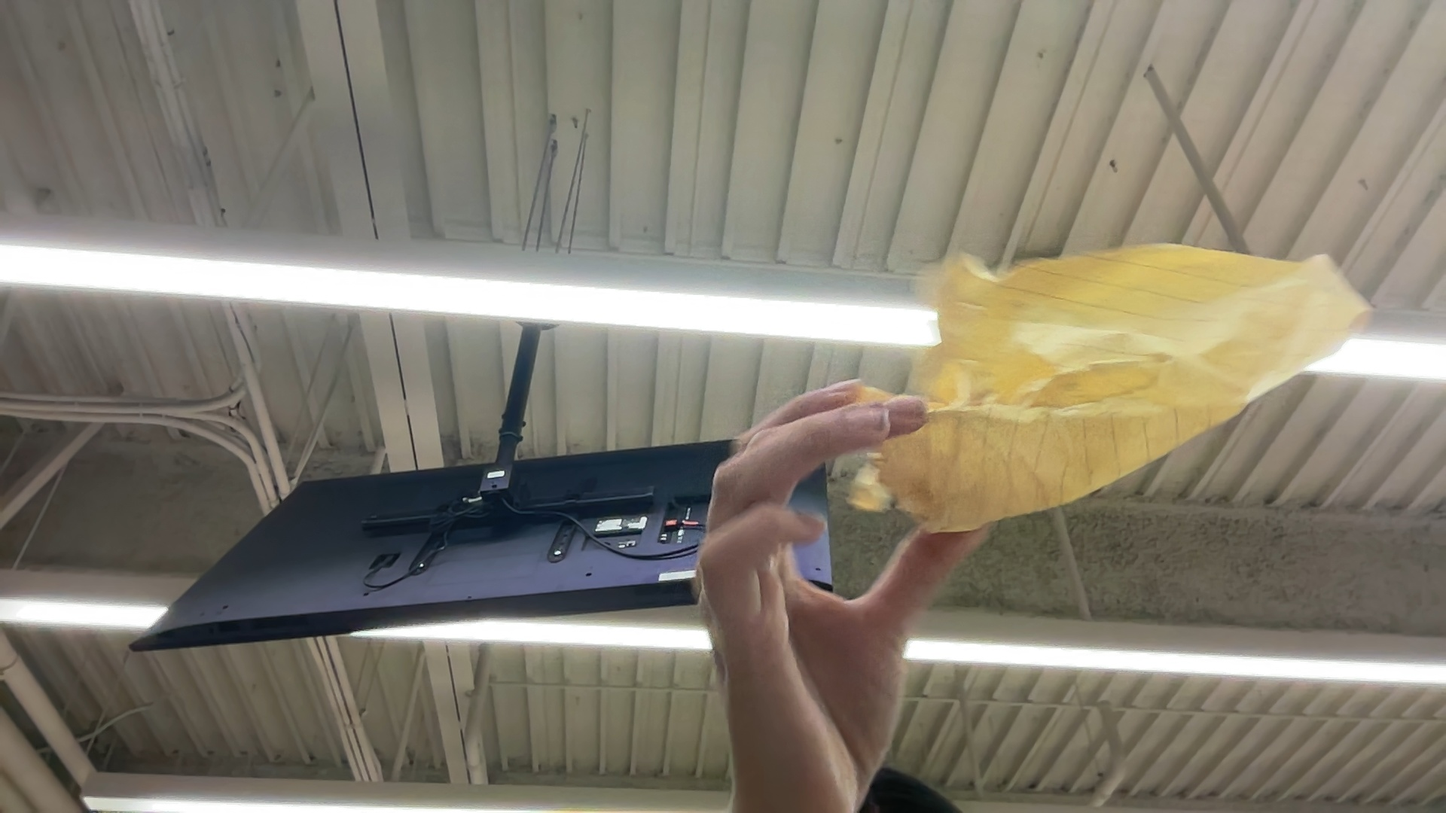Paper: (751, 238, 1439, 619)
